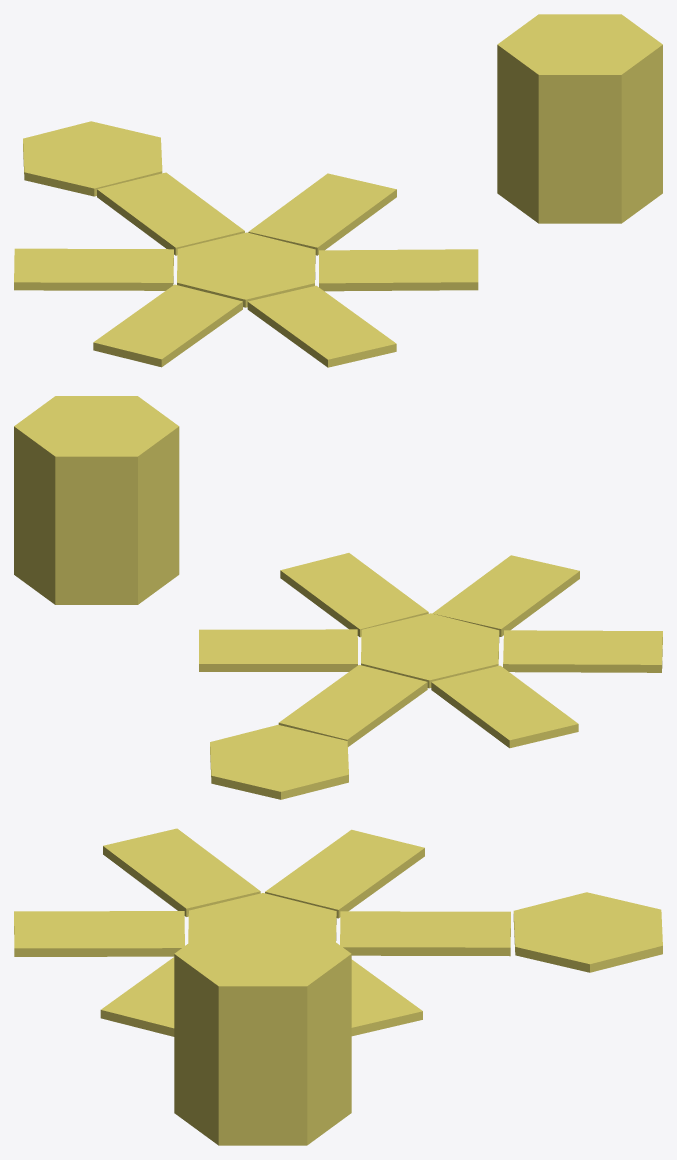
The model's file is Prisma Aja1.fbx.
3 renders of one model, top to bottom at view 1: azimuth 30°, elevation 25°; view 2: azimuth 150°, elevation 25°; view 3: azimuth 270°, elevation 25°, orthographic. The views are drawn at different scales.
Parts seen in each view (by area): view 1: Cylinder, Atas, Bawah, Sisi 4, Sisi 1, Sisi 5, Sisi 6, Sisi 3, Sisi 2; view 2: Cylinder, Atas, Bawah, Sisi 2, Sisi 5, Sisi 4, Sisi 1, Sisi 3, Sisi 6; view 3: Cylinder, Atas, Sisi 6, Sisi 3, Sisi 5, Sisi 4, Bawah, Sisi 1, Sisi 2.
Part boxes in pixels (bbox=[...]): Cylinder: bbox=[497, 14, 662, 223]; Atas: bbox=[23, 121, 162, 196]; Bawah: bbox=[177, 232, 315, 307]; Sisi 4: bbox=[14, 248, 173, 290]; Sisi 1: bbox=[319, 249, 478, 291]; Sisi 5: bbox=[93, 284, 242, 367]; Sisi 6: bbox=[247, 285, 396, 367]; Sisi 3: bbox=[97, 172, 244, 255]; Sisi 2: bbox=[248, 173, 396, 255]; Cylinder: bbox=[14, 396, 179, 604]; Atas: bbox=[210, 725, 348, 799]; Bawah: bbox=[361, 613, 499, 688]; Sisi 2: bbox=[199, 629, 357, 671]; Sisi 5: bbox=[503, 630, 662, 672]; Sisi 4: bbox=[431, 665, 578, 748]; Sisi 1: bbox=[280, 553, 428, 637]; Sisi 3: bbox=[278, 665, 427, 746]; Sisi 6: bbox=[432, 555, 579, 636]; Cylinder: bbox=[174, 921, 351, 1145]; Atas: bbox=[513, 892, 662, 972]; Sisi 6: bbox=[14, 911, 184, 956]; Sisi 3: bbox=[340, 911, 510, 956]; Sisi 5: bbox=[103, 828, 260, 916]; Sisi 4: bbox=[265, 829, 424, 918]; Bawah: bbox=[188, 893, 336, 942]; Sisi 1: bbox=[100, 957, 174, 1036]; Sisi 2: bbox=[351, 959, 422, 1036].
Size of the model in its own units: 854 by 207 by 761.
